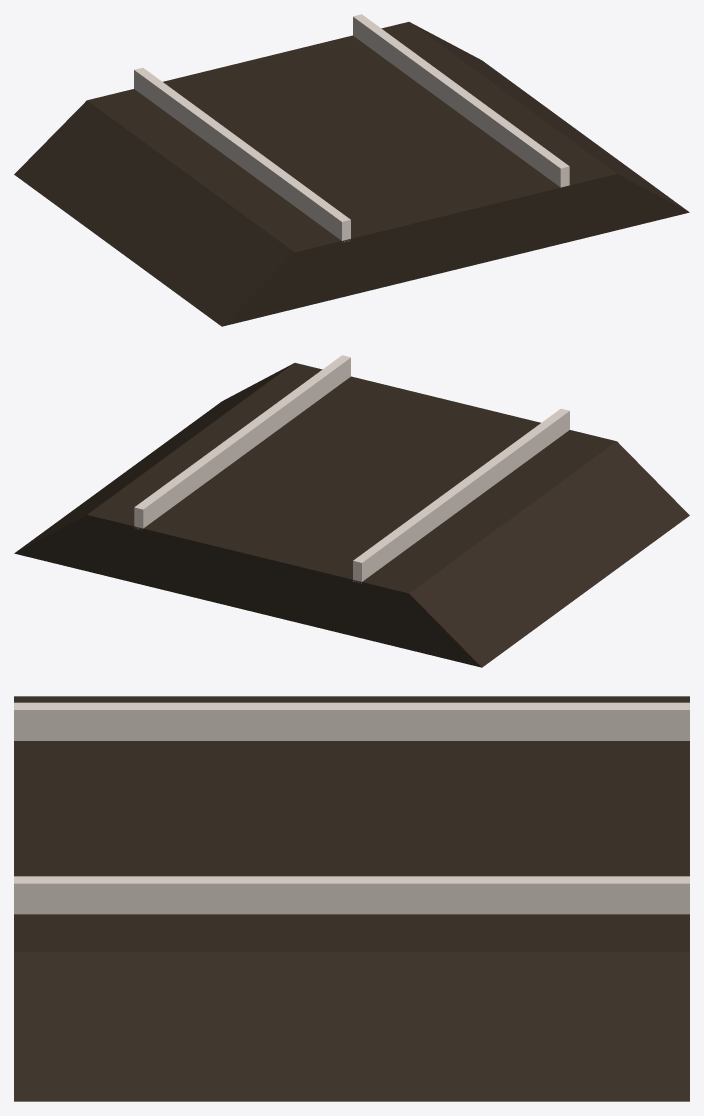
The model's file is track.fbx.
3 renders of one model, top to bottom at view 1: azimuth 30°, elevation 25°; view 2: azimuth 150°, elevation 25°; view 3: azimuth 270°, elevation 25°, orthographic. The views are drawn at different scales.
Visible parts, largest first — view 1: Track; view 2: Track; view 3: Track.
Part boxes in pixels (<box>): Track: <box>14,14,689,326</box>; Track: <box>14,355,689,667</box>; Track: <box>14,696,689,1101</box>.
Size of the model in its own units: 2.6 by 0.4005 by 2.
